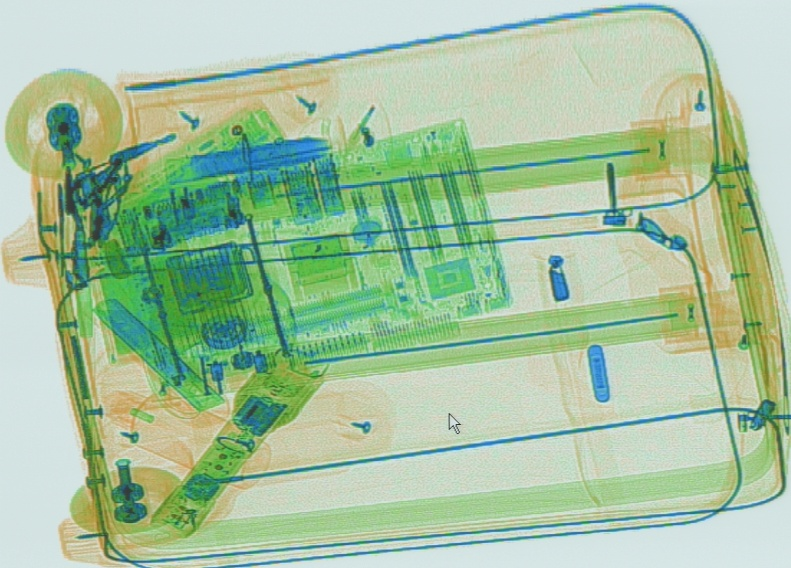knife: (83, 292, 231, 427)
